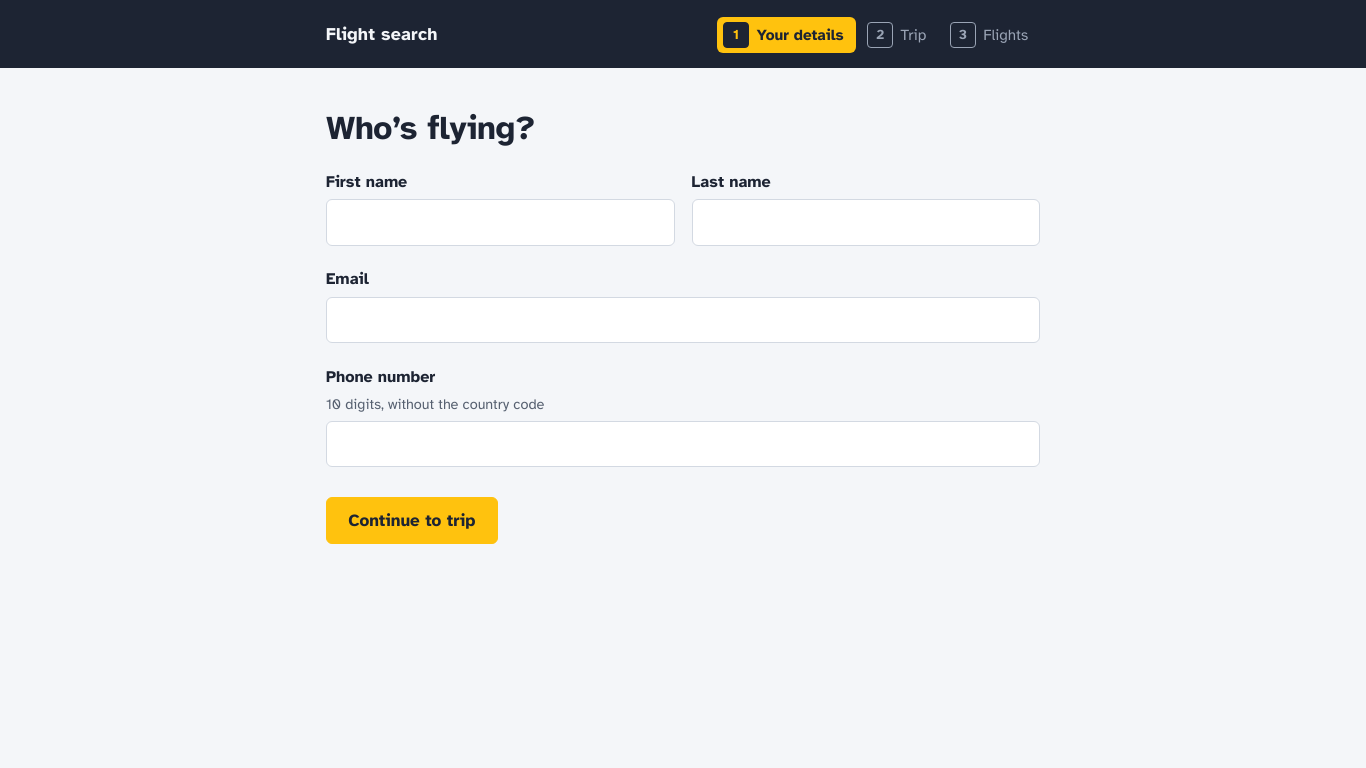
Test: step 2: trip › blocks search when nothing is chosen
Type "Asha" into the field labelled "First name" at (500, 223), box 326,199 -> 674,246
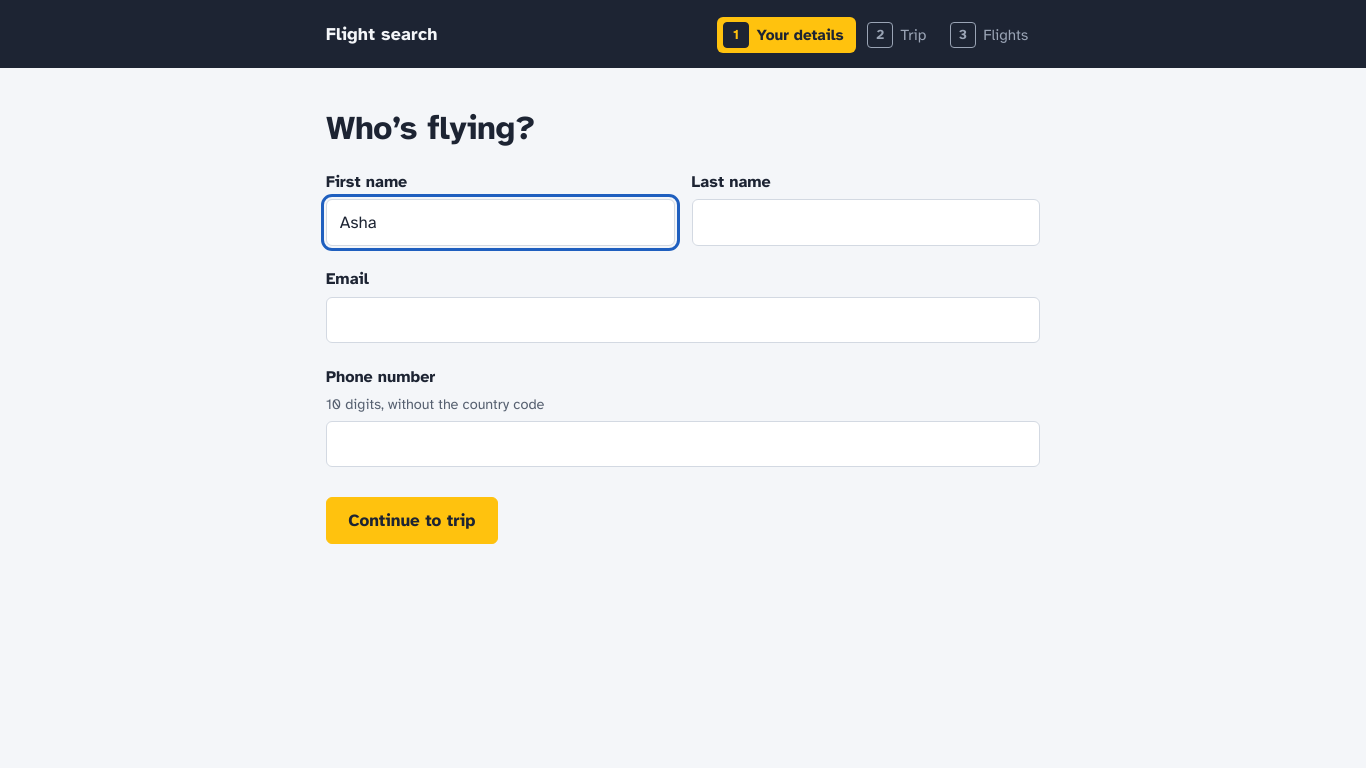
Type "Rao" into the field labelled "Last name" at (866, 223), box 692,199 -> 1040,246
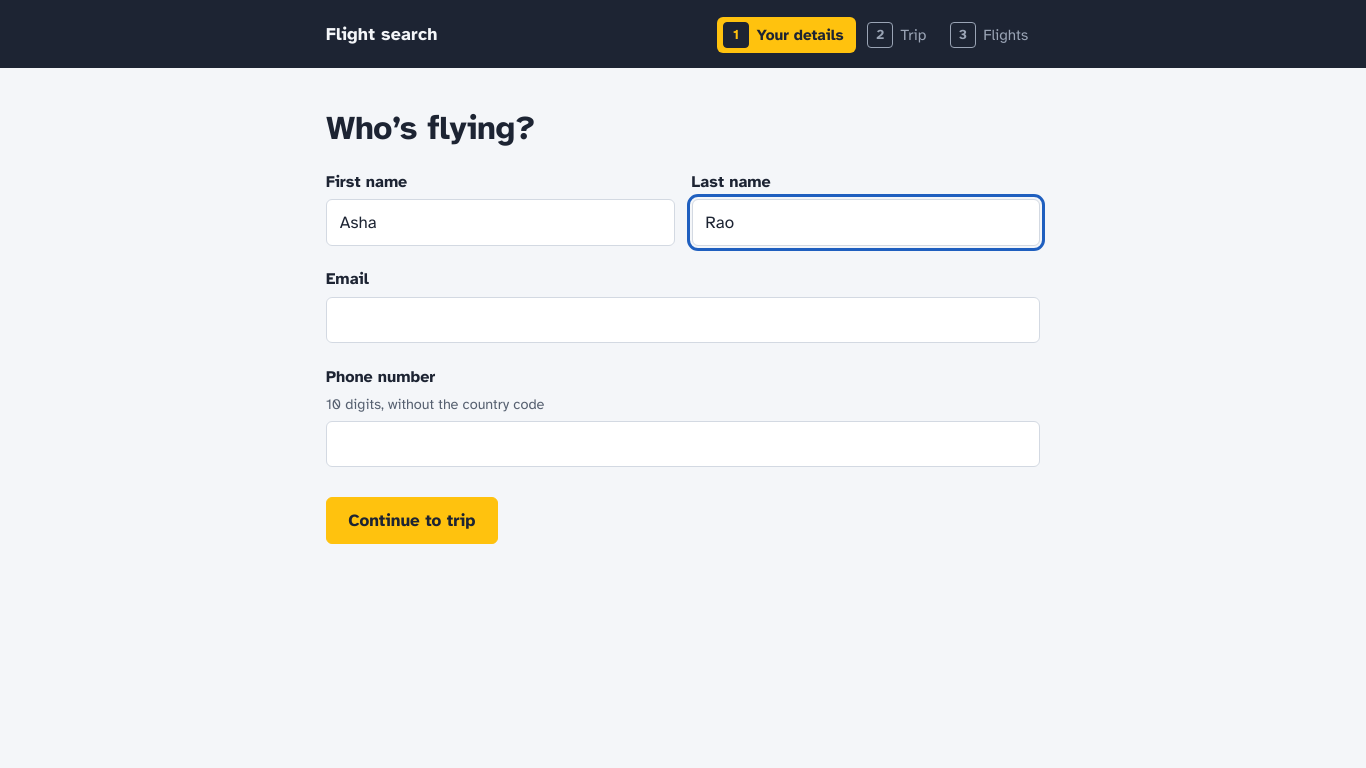
Type "asha@example.com" into the field labelled "Email" at (683, 320), box 326,296 -> 1040,343
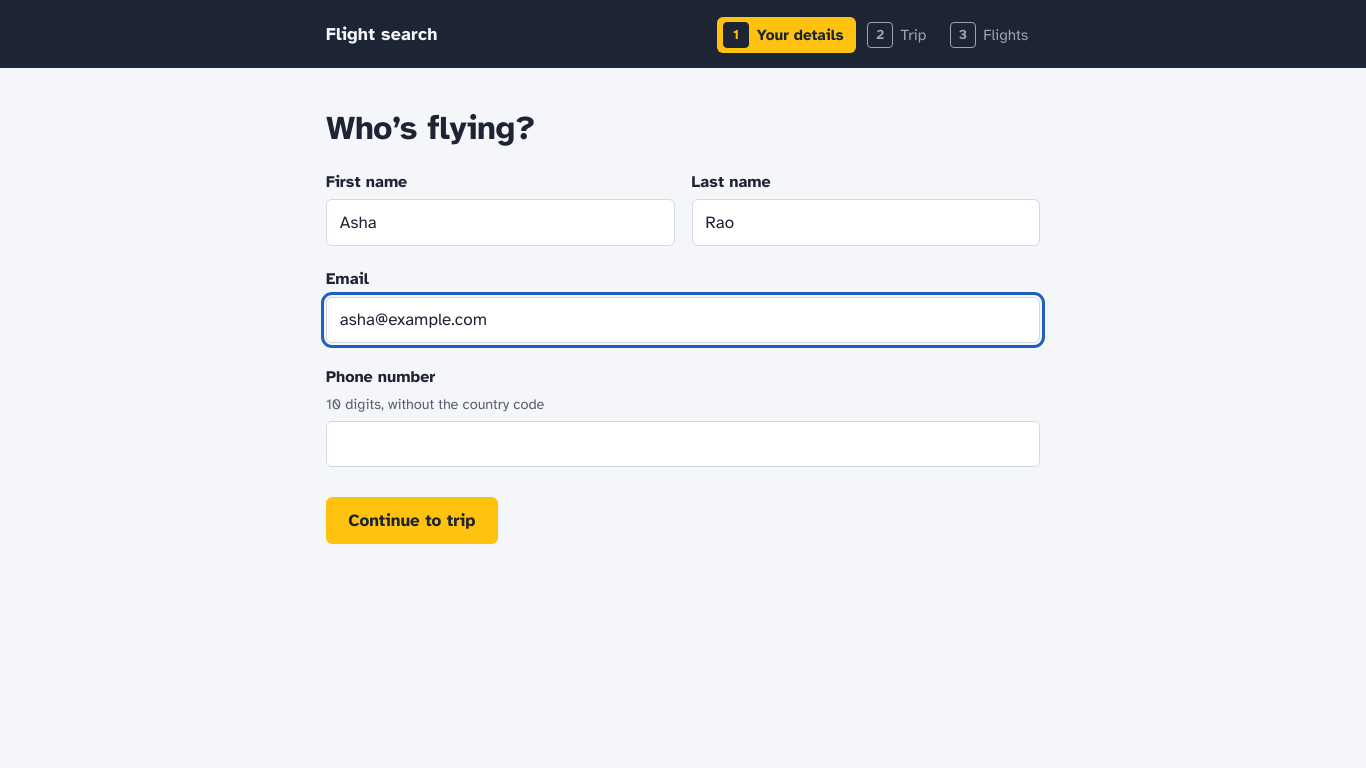
Type "9876543210" into the field labelled "Phone number" at (683, 444), box 326,421 -> 1040,467
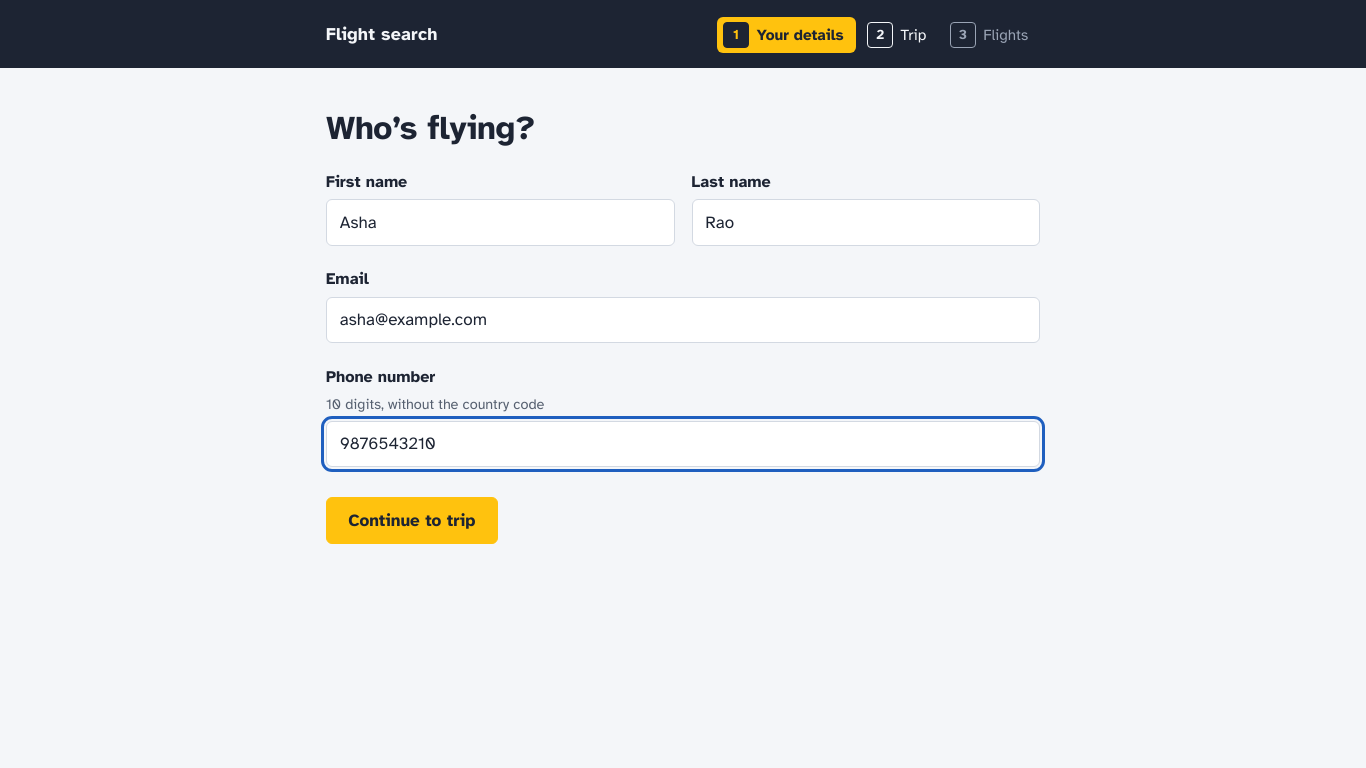
Click the button "Continue to trip" at (412, 520), box 326,497 -> 498,544
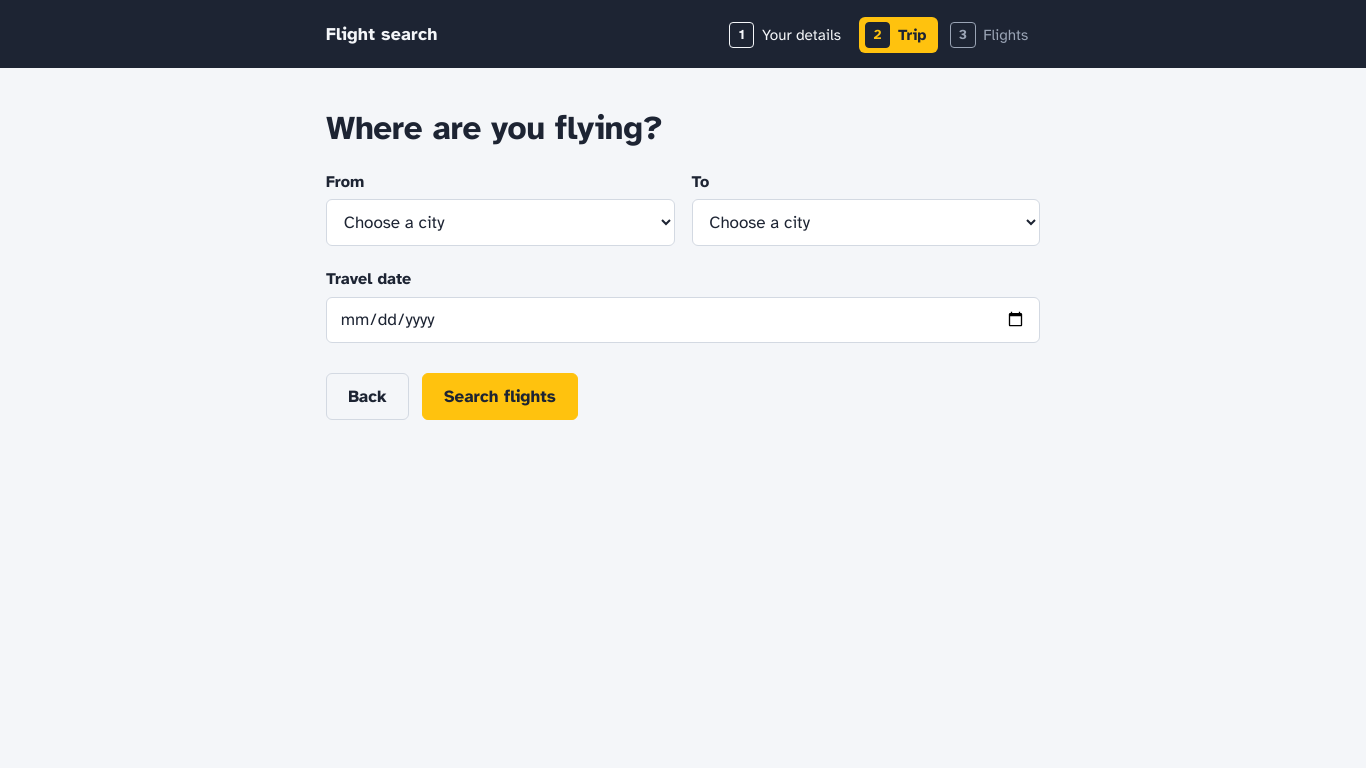
Click the button "Search flights" at (500, 396), box 422,373 -> 578,420
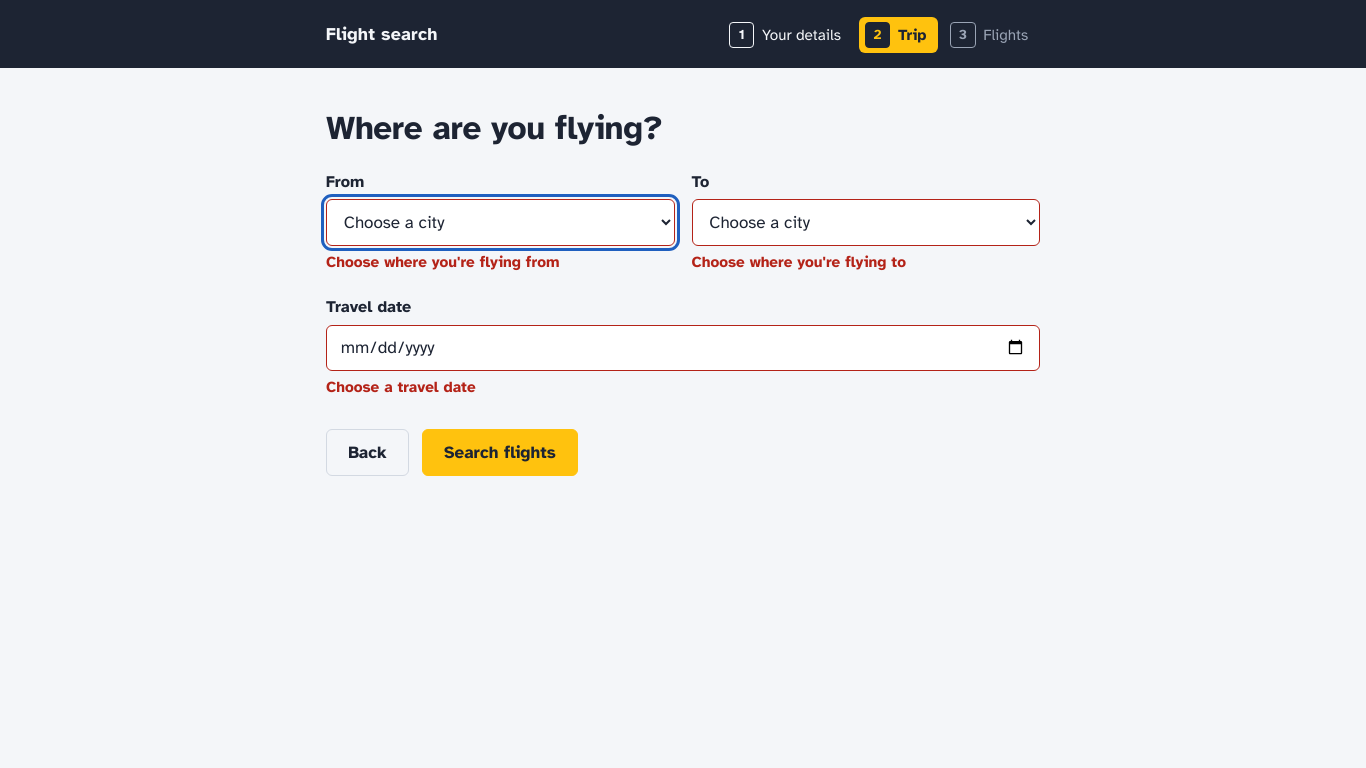
Expected: the text "Choose where you're flying from" is shown, 326,252 -> 560,271
Expected: the text "Choose where you're flying to" is shown, 692,252 -> 906,271
Expected: the text "Choose a travel date" is shown, 326,377 -> 476,396
